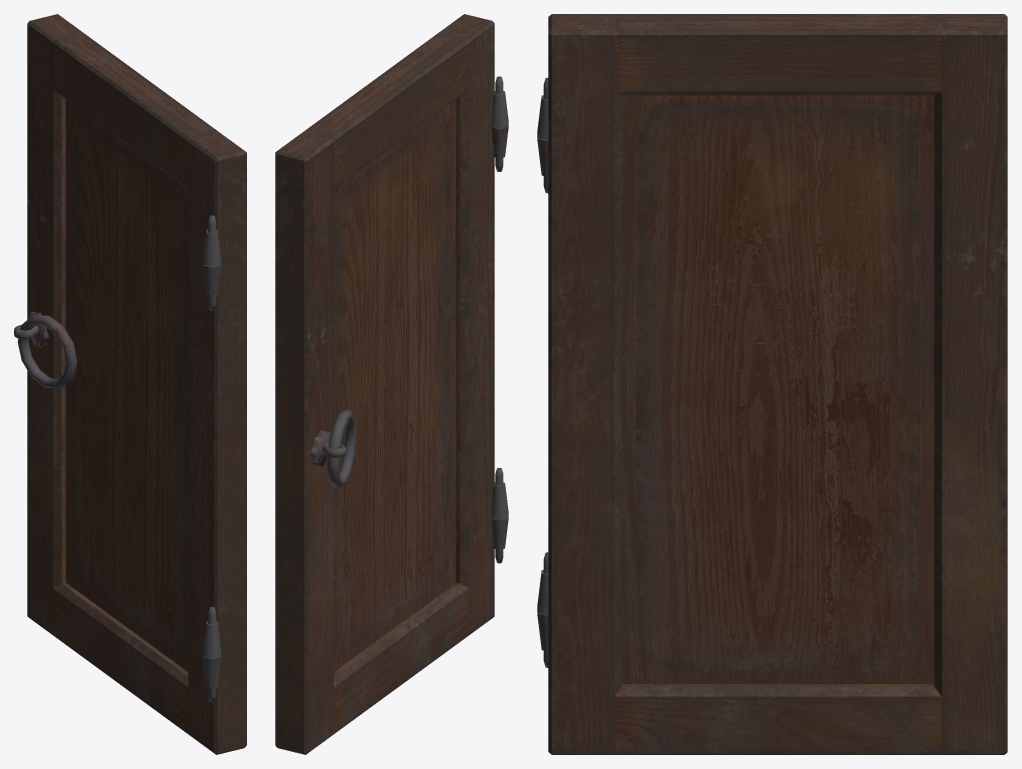
The model's file is SM_JWD_Door02c.fbx.
The picture shows the model from 3 angles, left to right: view 1: azimuth 30°, elevation 25°; view 2: azimuth 150°, elevation 25°; view 3: azimuth 270°, elevation 25°; orthographic projection. The views are drawn at different scales.
Visible parts, largest first — view 1: SM_JWD_Door02c; view 2: SM_JWD_Door02c; view 3: SM_JWD_Door02c.
Part boxes in pixels (bbox=[...]): SM_JWD_Door02c: bbox=[14, 14, 246, 754]; SM_JWD_Door02c: bbox=[275, 14, 508, 754]; SM_JWD_Door02c: bbox=[537, 14, 1007, 754].
Bounding box in the file's own units: 8.75 × 51.23 × 87.
Materials: 1 (1 with a texture image).
